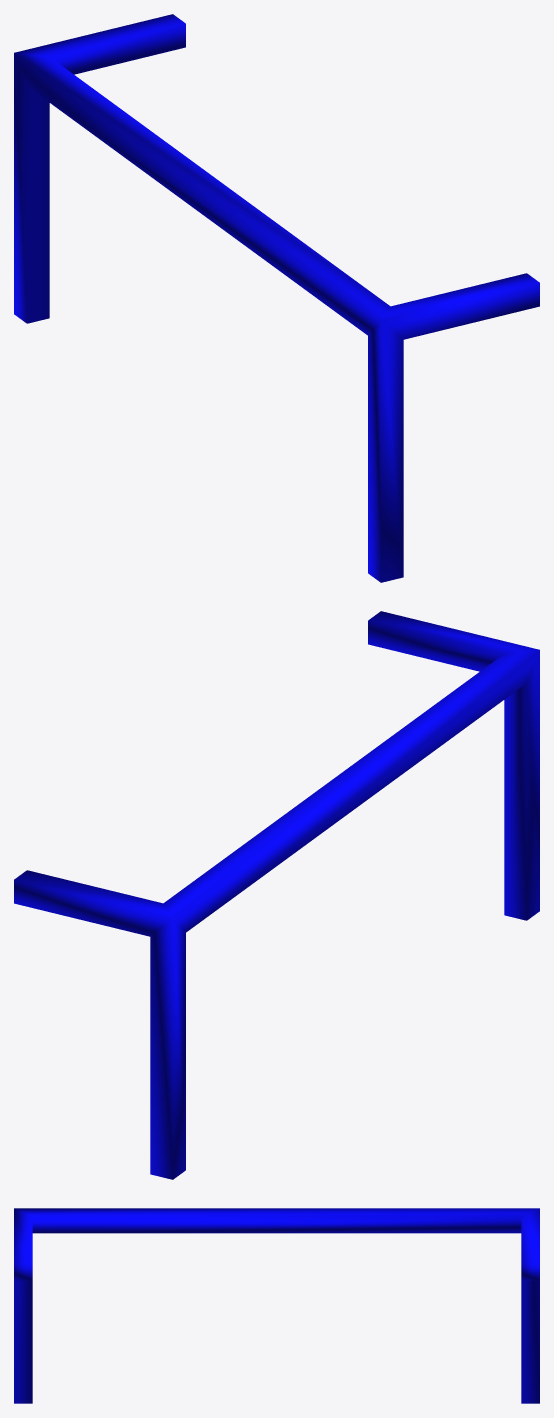
The model's file is Goalsallyback.dae.
The picture shows the model from 3 angles, top to bottom: view 1: azimuth 30°, elevation 25°; view 2: azimuth 150°, elevation 25°; view 3: azimuth 270°, elevation 25°; orthographic projection. The views are drawn at different scales.
Visible parts, largest first — view 1: visual_0_field_1_5; view 2: visual_0_field_1_5; view 3: visual_0_field_1_5.
Boxes of the visible parts, box(x1,y1,x2,y2) form: visual_0_field_1_5: box(14, 14, 539, 582); visual_0_field_1_5: box(14, 611, 539, 1179); visual_0_field_1_5: box(14, 1208, 539, 1403).
Size of the model in its own units: 0.7 by 2.8 by 1.1.
